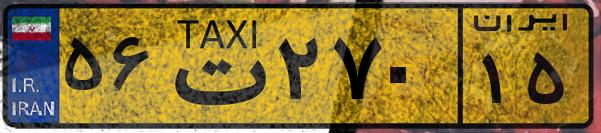0: (385, 28, 445, 110)
1: (475, 38, 525, 113)
2: (270, 28, 330, 110)
5: (57, 26, 110, 100), (525, 38, 570, 115)
6: (110, 28, 158, 98)
7: (330, 28, 385, 110)
ت: (158, 12, 270, 120)
